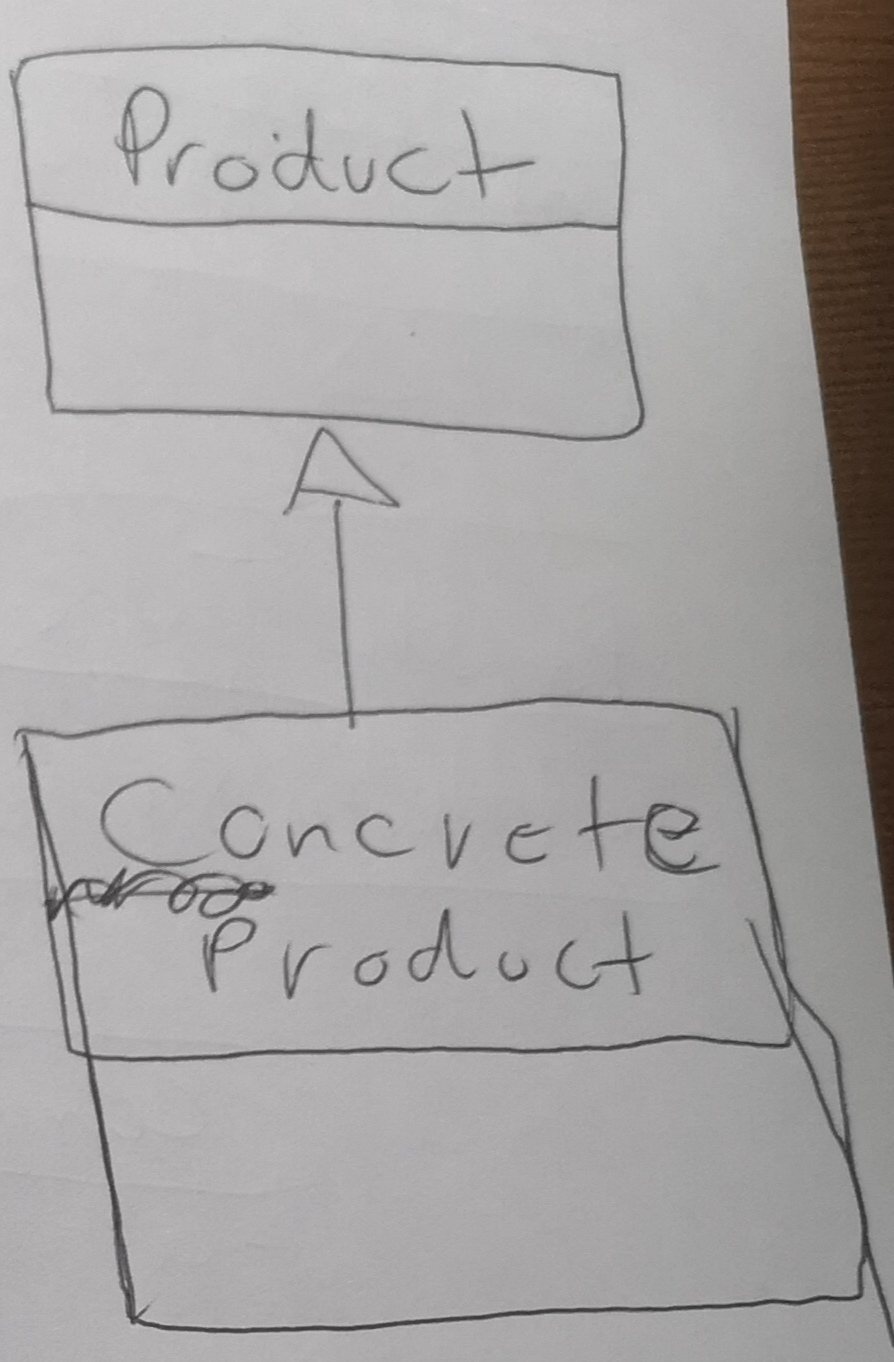class attributes: (19, 697, 879, 1341), (17, 42, 655, 450)
inheritance: (275, 412, 415, 733)
